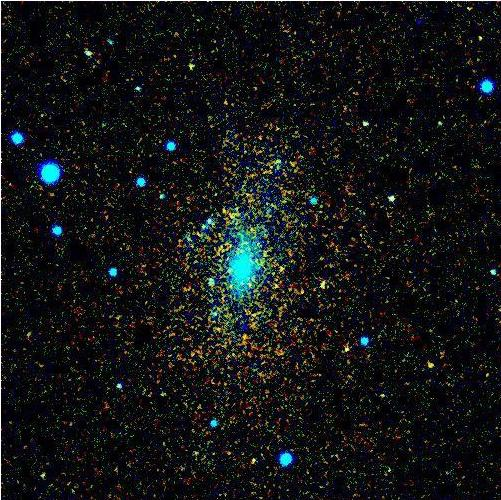star: (415, 348, 445, 378)
